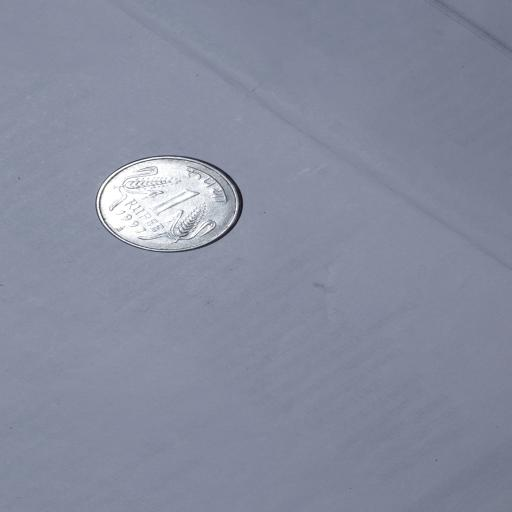rupee1: (93, 155, 241, 252)
